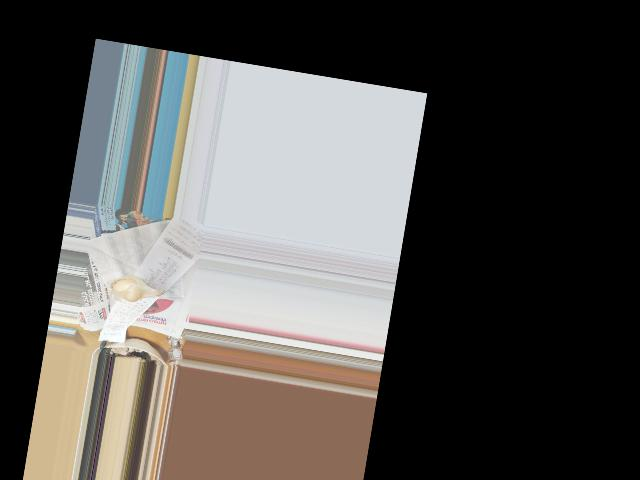onion: (110, 273, 152, 302)
